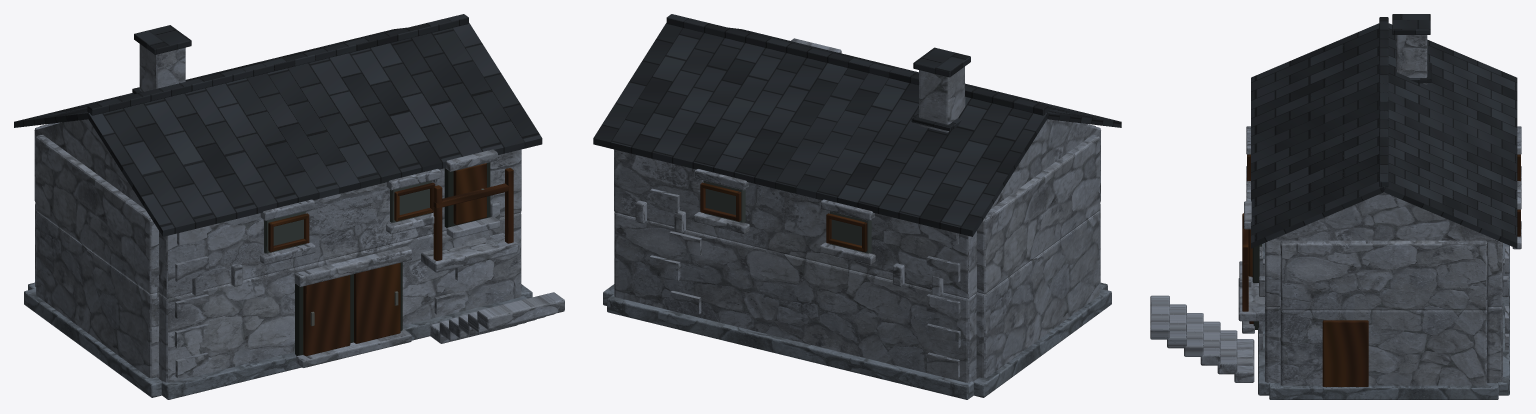
File: barrosan_house_02_selected_granite.glb
The picture shows the model from 3 angles, left to right: view 1: azimuth 30°, elevation 25°; view 2: azimuth 150°, elevation 25°; view 3: azimuth 270°, elevation 25°; orthographic projection. The views are drawn at different scales.
Parts seen in each view (by area): view 1: LOD0_Granite, LOD0_Weathered_Slate, LOD1_Weathered_Slate, LOD0_Weathered_Timber, LOD0_Damp_Foundation, LOD1_Granite, LOD0_Recessed_Window, LOD0_Interior_Recess, LOD1_Weathered_Timber; view 2: LOD0_Granite, LOD0_Weathered_Slate, LOD1_Weathered_Slate, LOD0_Damp_Foundation, LOD1_Granite, LOD0_Recessed_Window, LOD0_Weathered_Timber, LOD1_Damp_Foundation; view 3: LOD0_Granite, LOD0_Weathered_Slate, LOD1_Weathered_Slate, LOD0_Damp_Foundation, LOD0_Weathered_Timber, LOD1_Granite, LOD0_Interior_Recess.
Boxes of the visible parts, x1,y1,x2,y2 form: LOD0_Granite: (34, 44, 564, 382); LOD0_Weathered_Slate: (14, 14, 542, 236); LOD1_Weathered_Slate: (14, 17, 542, 236); LOD0_Weathered_Timber: (268, 163, 513, 355); LOD0_Damp_Foundation: (24, 282, 532, 399); LOD1_Granite: (34, 44, 564, 382); LOD0_Recessed_Window: (264, 180, 431, 253); LOD0_Interior_Recess: (295, 162, 490, 355); LOD1_Weathered_Timber: (268, 164, 513, 355); LOD0_Granite: (614, 38, 1100, 382); LOD0_Weathered_Slate: (593, 14, 1121, 236); LOD1_Weathered_Slate: (593, 14, 1121, 236); LOD0_Damp_Foundation: (603, 282, 1111, 399); LOD1_Granite: (614, 38, 1100, 378); LOD0_Recessed_Window: (704, 180, 871, 253); LOD0_Weathered_Timber: (700, 182, 867, 252); LOD1_Damp_Foundation: (603, 286, 1111, 399); LOD0_Granite: (1150, 35, 1521, 385); LOD0_Weathered_Slate: (1251, 14, 1517, 248); LOD1_Weathered_Slate: (1251, 18, 1517, 247); LOD0_Damp_Foundation: (1258, 243, 1509, 399); LOD0_Weathered_Timber: (1242, 154, 1520, 386); LOD1_Granite: (1150, 35, 1521, 385); LOD0_Interior_Recess: (1252, 244, 1261, 329).
Size of what is drawn, in the model's own units: 10.3 by 7.26 by 9.71.
10 materials, 7 textured.
